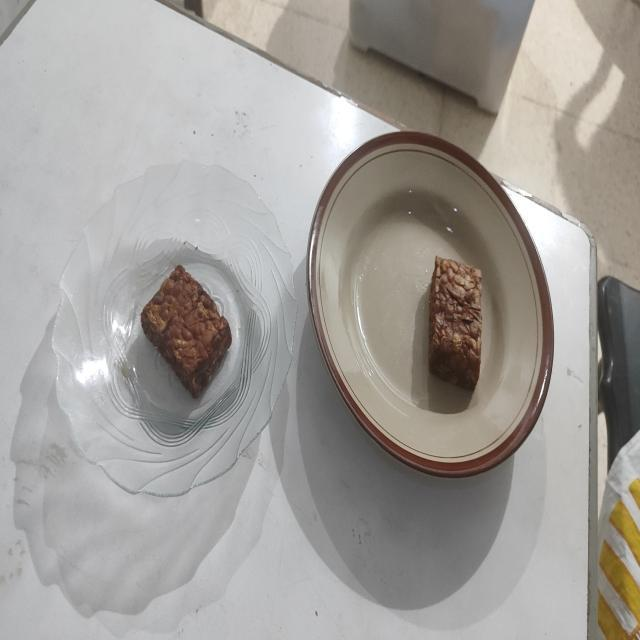tempe_goreng: (141, 266, 232, 398), (429, 256, 482, 391)
